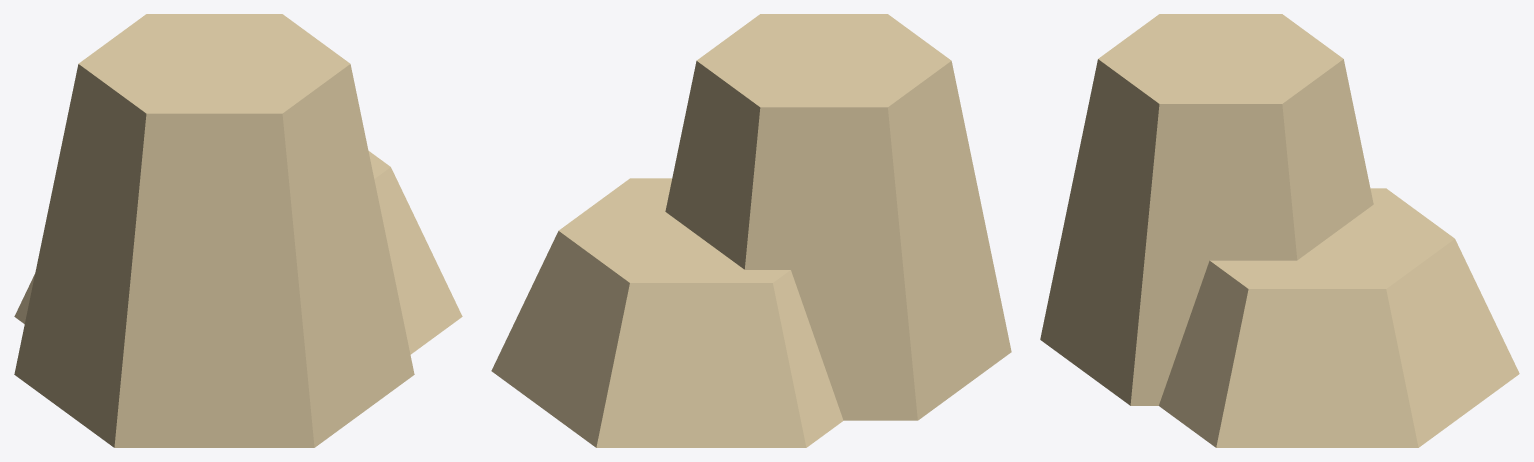
File: resourceStone.dae
3 views of the same model, side by side, from view 1: azimuth 30°, elevation 25°; view 2: azimuth 150°, elevation 25°; view 3: azimuth 270°, elevation 25° (orthographic). The views are drawn at different scales.
Parts seen in each view (by area): view 1: resourceStone; view 2: resourceStone; view 3: resourceStone.
Boxes of the visible parts, x1,y1,x2,y2 form: resourceStone: (14,14,462,447); resourceStone: (491,14,1011,447); resourceStone: (1040,14,1519,447).
Size of the model in its own units: 0.5689 by 0.4272 by 0.6614.
